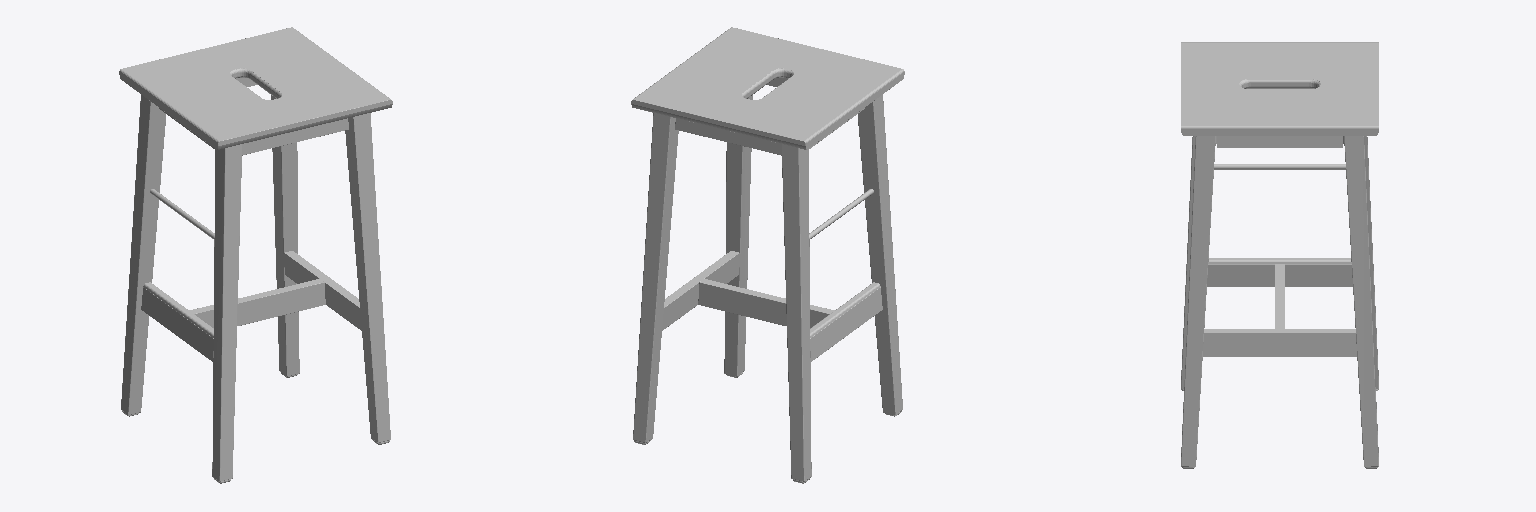
Rendered from nILSOLLEstool.obj.
3 renders of one model, left to right at view 1: azimuth 30°, elevation 25°; view 2: azimuth 150°, elevation 25°; view 3: azimuth 270°, elevation 25°, orthographic.
Parts seen in each view (by area): view 1: NILSOLLE_stool_Plane.021; view 2: NILSOLLE_stool_Plane.021; view 3: NILSOLLE_stool_Plane.021.
Boxes of the visible parts, <box> form: NILSOLLE_stool_Plane.021: <box>119,27,392,483</box>; NILSOLLE_stool_Plane.021: <box>631,27,904,483</box>; NILSOLLE_stool_Plane.021: <box>1181,42,1378,468</box>.
Bounding box in the file's own units: 0.3963 × 0.7456 × 0.39.